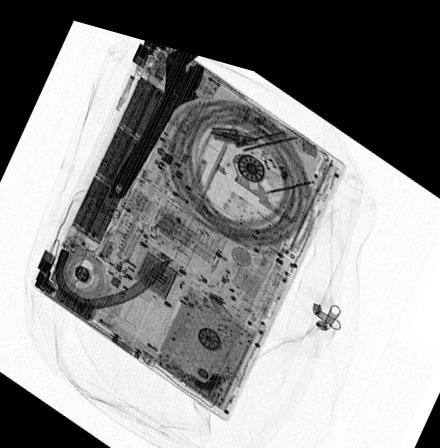Wrench: (108, 39, 204, 195)
